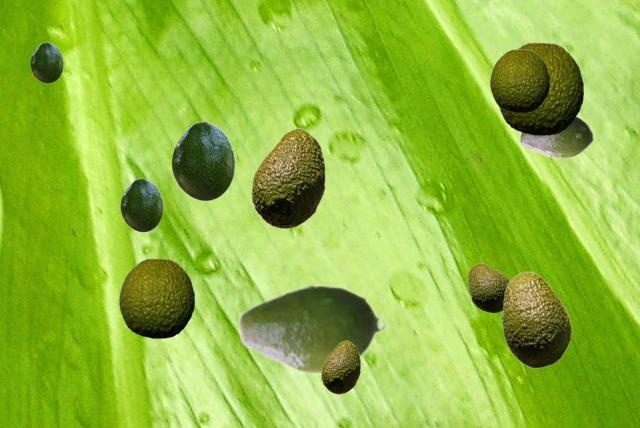avocado: (236, 282, 387, 375), (498, 42, 582, 134), (251, 128, 324, 228), (499, 271, 571, 367), (119, 258, 193, 337), (171, 121, 234, 200), (490, 49, 548, 111), (519, 116, 593, 158), (120, 178, 162, 231), (467, 263, 509, 312), (321, 340, 359, 393), (30, 42, 62, 82)
